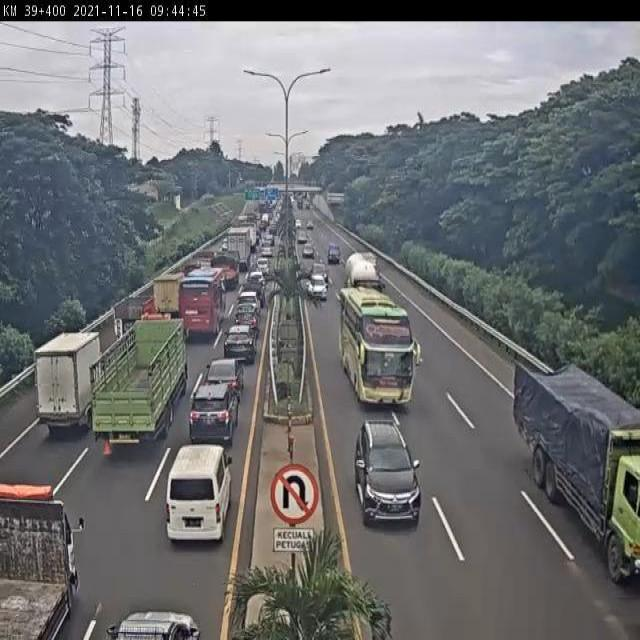big bus: (338, 286, 419, 410), (176, 273, 225, 344)
car: (352, 416, 422, 523), (165, 448, 231, 543), (188, 386, 236, 451), (204, 361, 245, 403), (221, 329, 253, 368), (232, 308, 259, 335), (236, 288, 261, 316)
truck-l-: (514, 364, 640, 585), (93, 323, 186, 452)
truck-m-: (35, 327, 103, 432), (148, 272, 182, 328), (114, 300, 156, 343)
